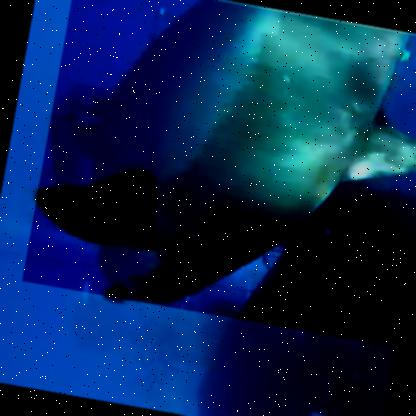white-shark: (19, 0, 415, 347)
